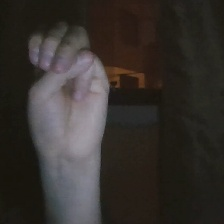M: (17, 18, 126, 169)
